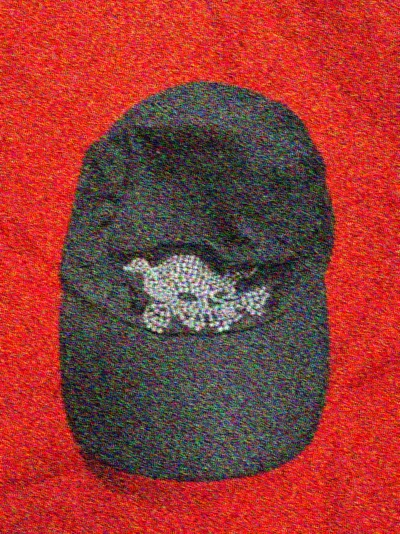Hat: (25, 46, 356, 493)
